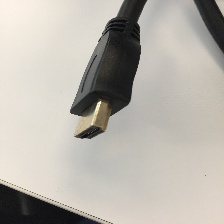hdmi_male: (62, 27, 144, 140)
